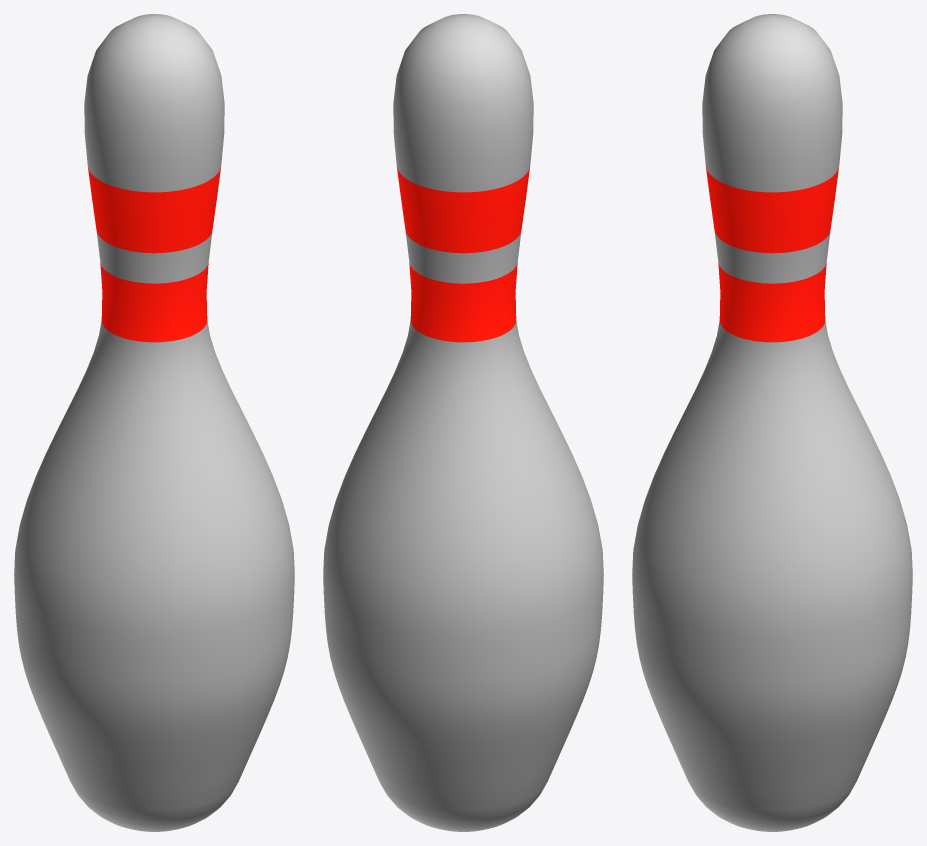
The model's file is bowling.fbx.
The picture shows the model from 3 angles, left to right: view 1: azimuth 30°, elevation 25°; view 2: azimuth 150°, elevation 25°; view 3: azimuth 270°, elevation 25°; orthographic projection.
Parts seen in each view (by area): view 1: Pin; view 2: Pin; view 3: Pin.
Boxes of the visible parts, <box> form: Pin: <box>14,14,294,831</box>; Pin: <box>323,14,603,831</box>; Pin: <box>632,14,912,831</box>.
Bounding box in the file's own units: 120 × 380 × 120.
